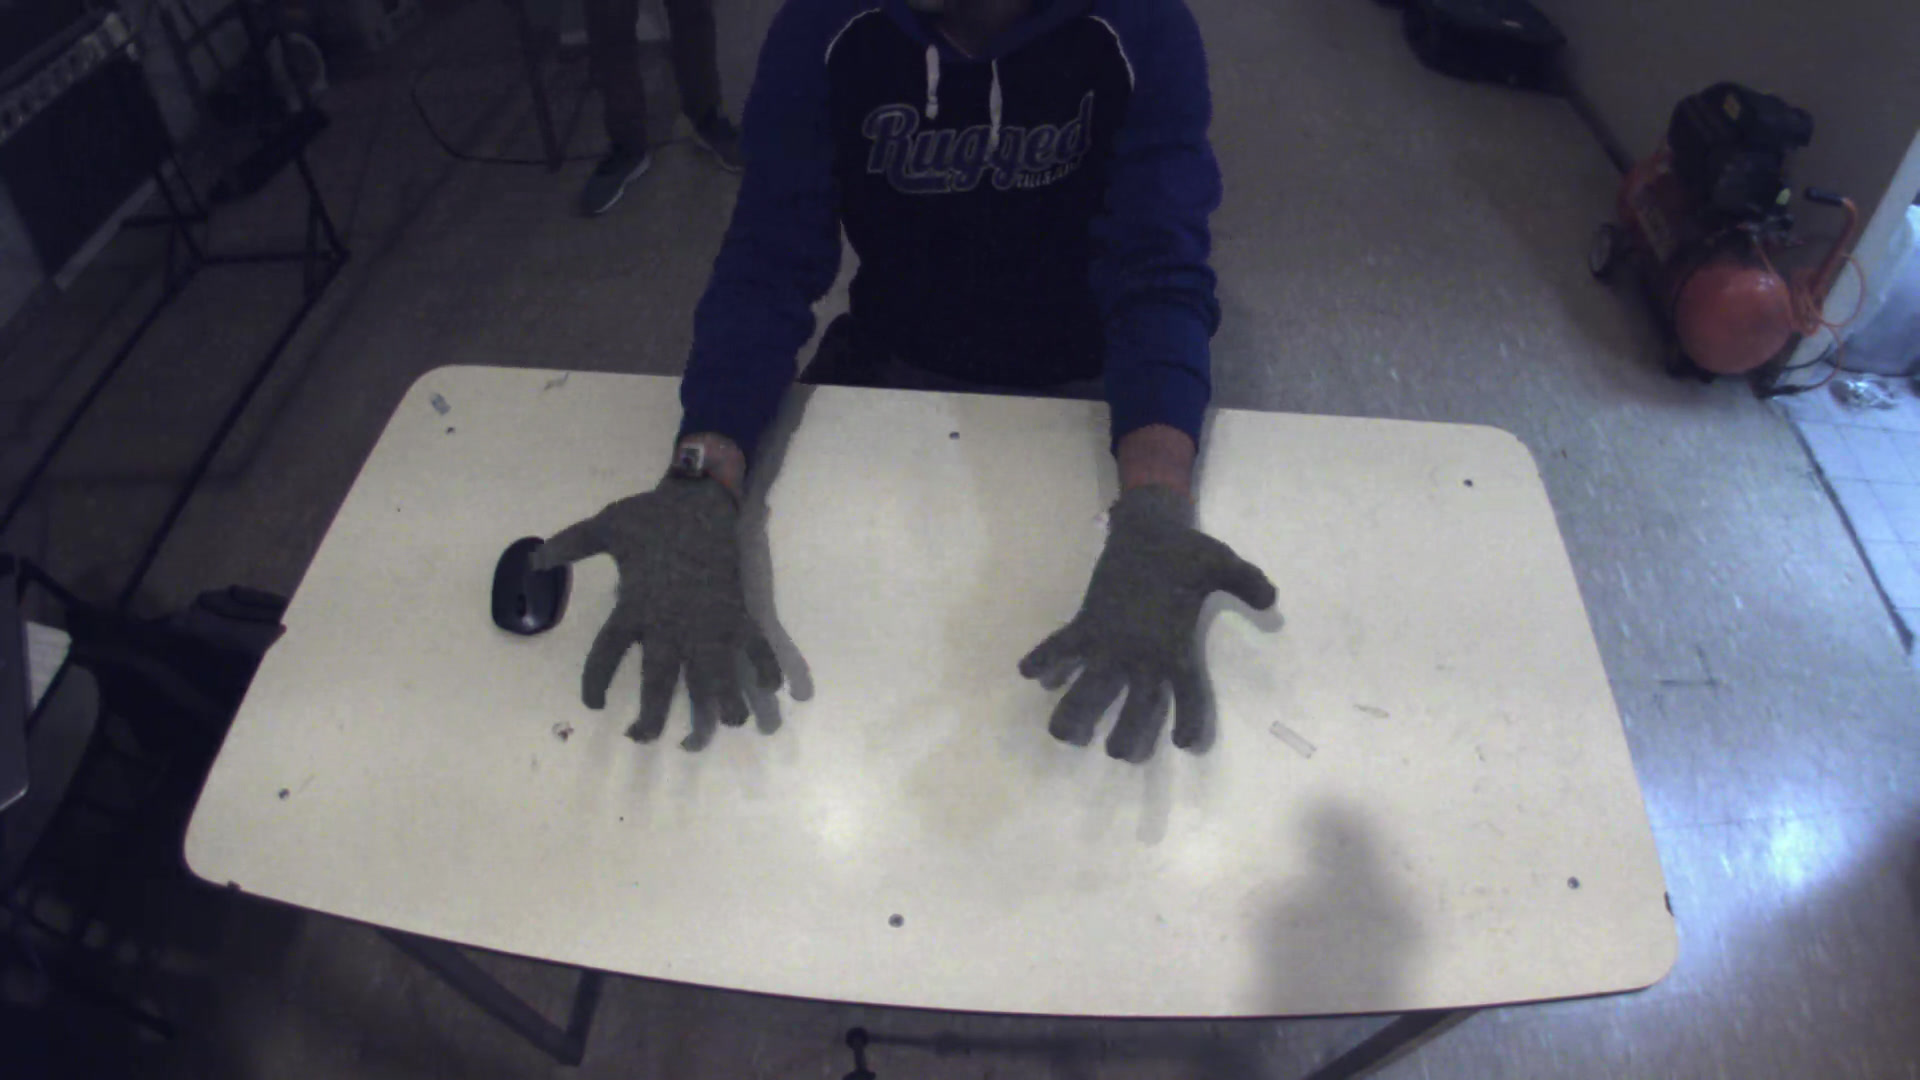hand: (521, 477, 825, 765), (1011, 493, 1276, 770)
